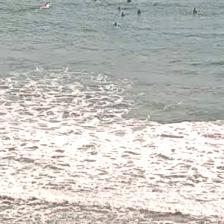surfer: (112, 22, 119, 28), (41, 2, 49, 7), (120, 11, 126, 17), (116, 6, 122, 12), (136, 9, 142, 15), (192, 8, 197, 14), (126, 0, 133, 4), (93, 0, 98, 2)
